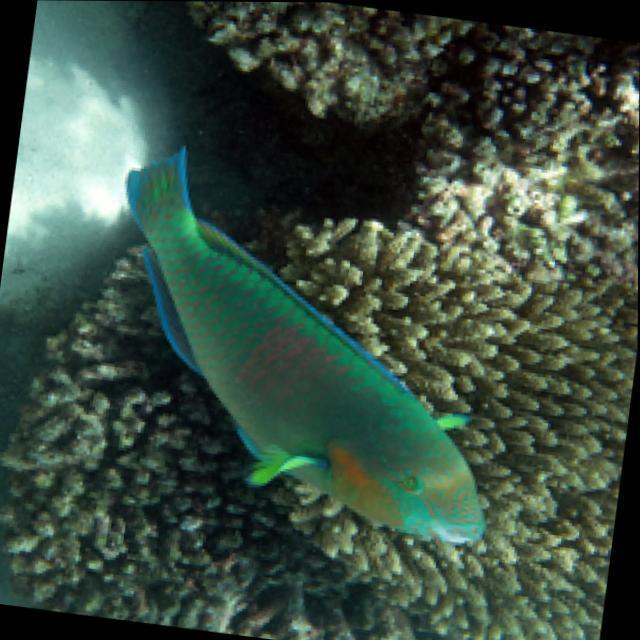Dead Coral: (0, 292, 295, 637), (154, 1, 619, 166), (0, 258, 224, 526), (0, 475, 297, 640)
